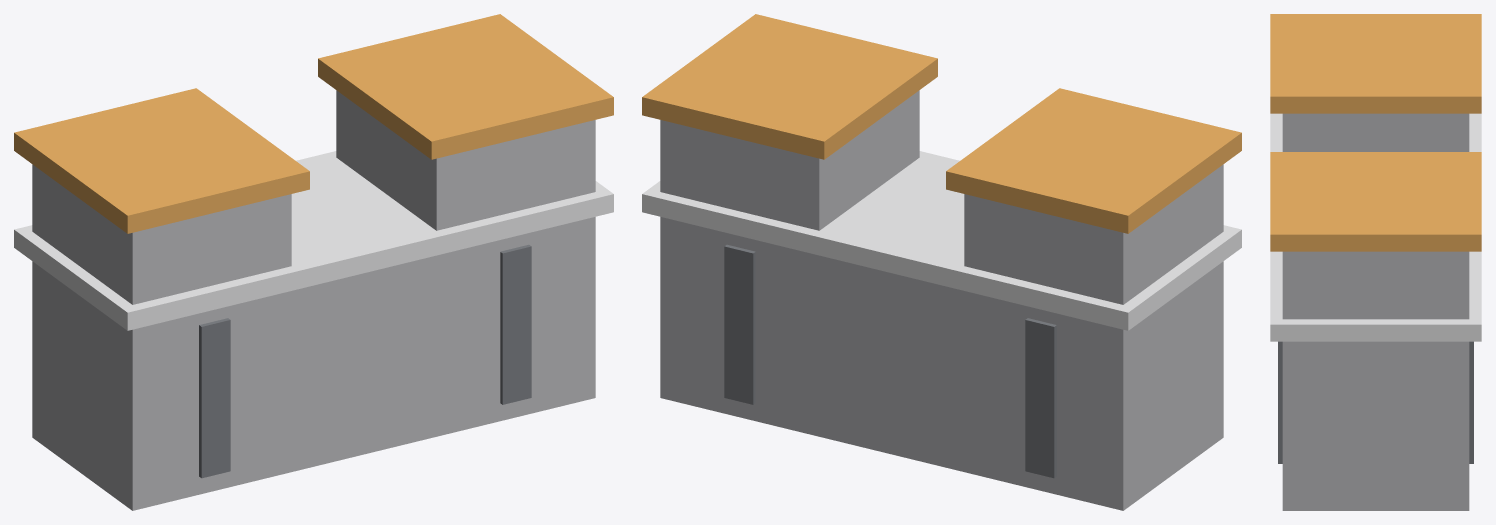
The model's file is modular-greybox-architecture-kit-cover-block-medium-db9aa6f1__22909.glb.
3 views of the same model, side by side, from view 1: azimuth 30°, elevation 25°; view 2: azimuth 150°, elevation 25°; view 3: azimuth 270°, elevation 25° (orthographic). The views are drawn at different scales.
Visible parts, largest first — view 1: cover-block-medium; view 2: cover-block-medium; view 3: cover-block-medium.
Boxes of the visible parts, x1=… form: cover-block-medium: x1=14, y1=14, x2=613, y2=510; cover-block-medium: x1=642, y1=14, x2=1241, y2=510; cover-block-medium: x1=1270, y1=14, x2=1481, y2=510.
Bounding box in the file's own units: 1.68 × 1 × 0.6799.
